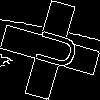U: (25, 25, 80, 72)
